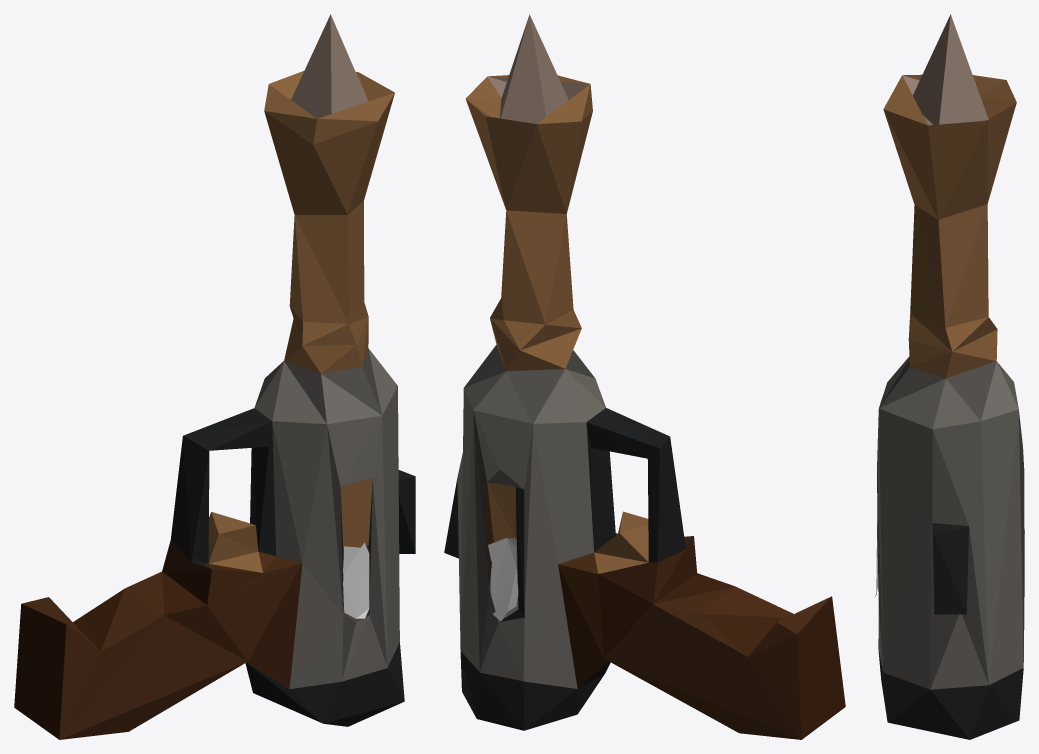
Rendered from aiwpn_flamer_lo.glb.
The picture shows the model from 3 angles, left to right: view 1: azimuth 30°, elevation 25°; view 2: azimuth 150°, elevation 25°; view 3: azimuth 270°, elevation 25°; orthographic projection.
Parts seen in each view (by area): view 1: ca_aiwpn_flamer_lo; view 2: ca_aiwpn_flamer_lo; view 3: ca_aiwpn_flamer_lo.
Part boxes in pixels (x1,y1,x2,y2): ca_aiwpn_flamer_lo: (14,14,415,739); ca_aiwpn_flamer_lo: (444,14,845,739); ca_aiwpn_flamer_lo: (874,14,1024,739).
Size of the model in its own units: 0.5088 by 0.9013 by 0.1758.
